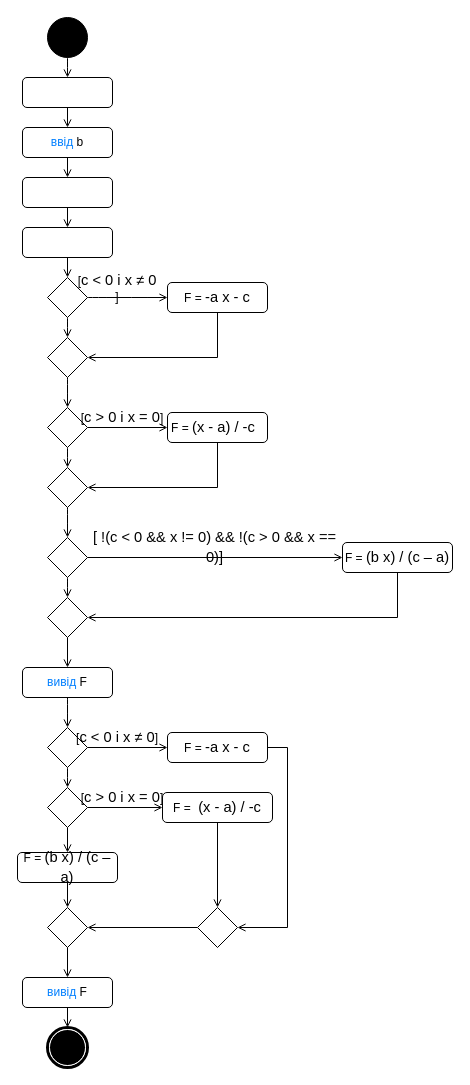
This 470x1085 diagram has some shape labels left out. Here are the shapes that lost their labels. From the top down, the box of each, then its label:
(22, 76, 112, 108): ввід a
(22, 176, 112, 208): ввід c
(22, 226, 112, 258): ввід x
